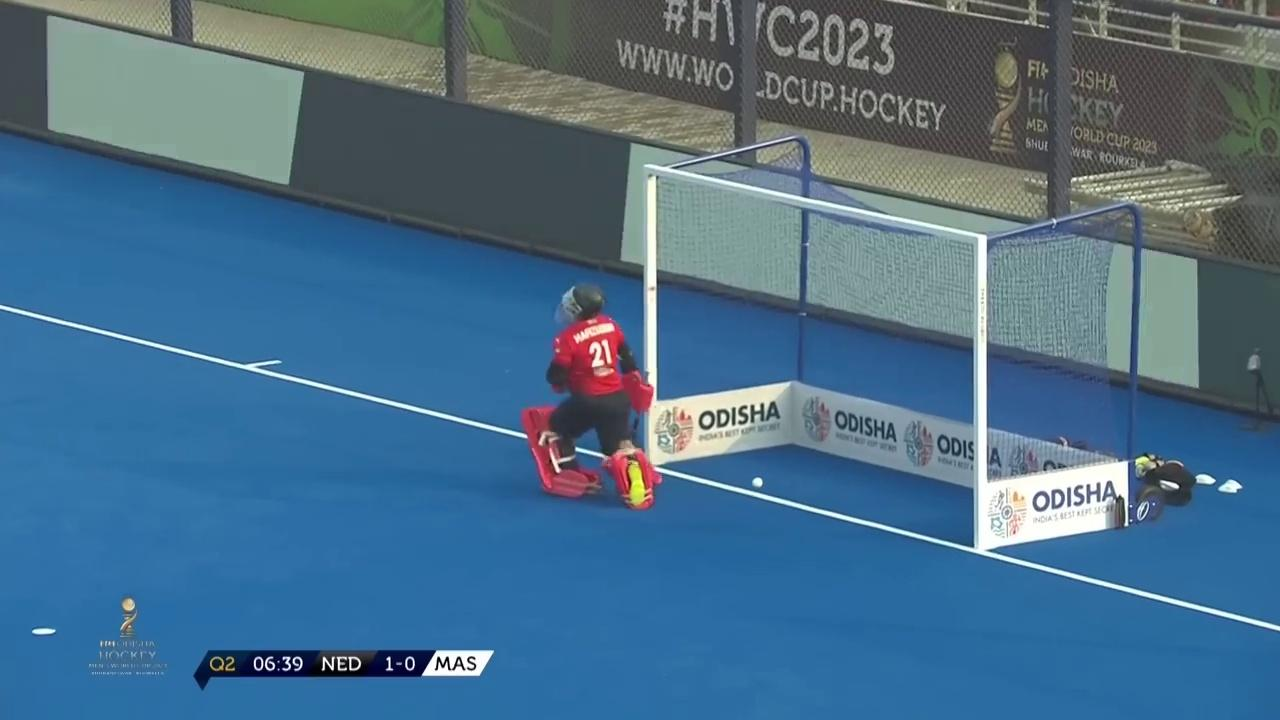ball: (743, 468, 773, 492)
